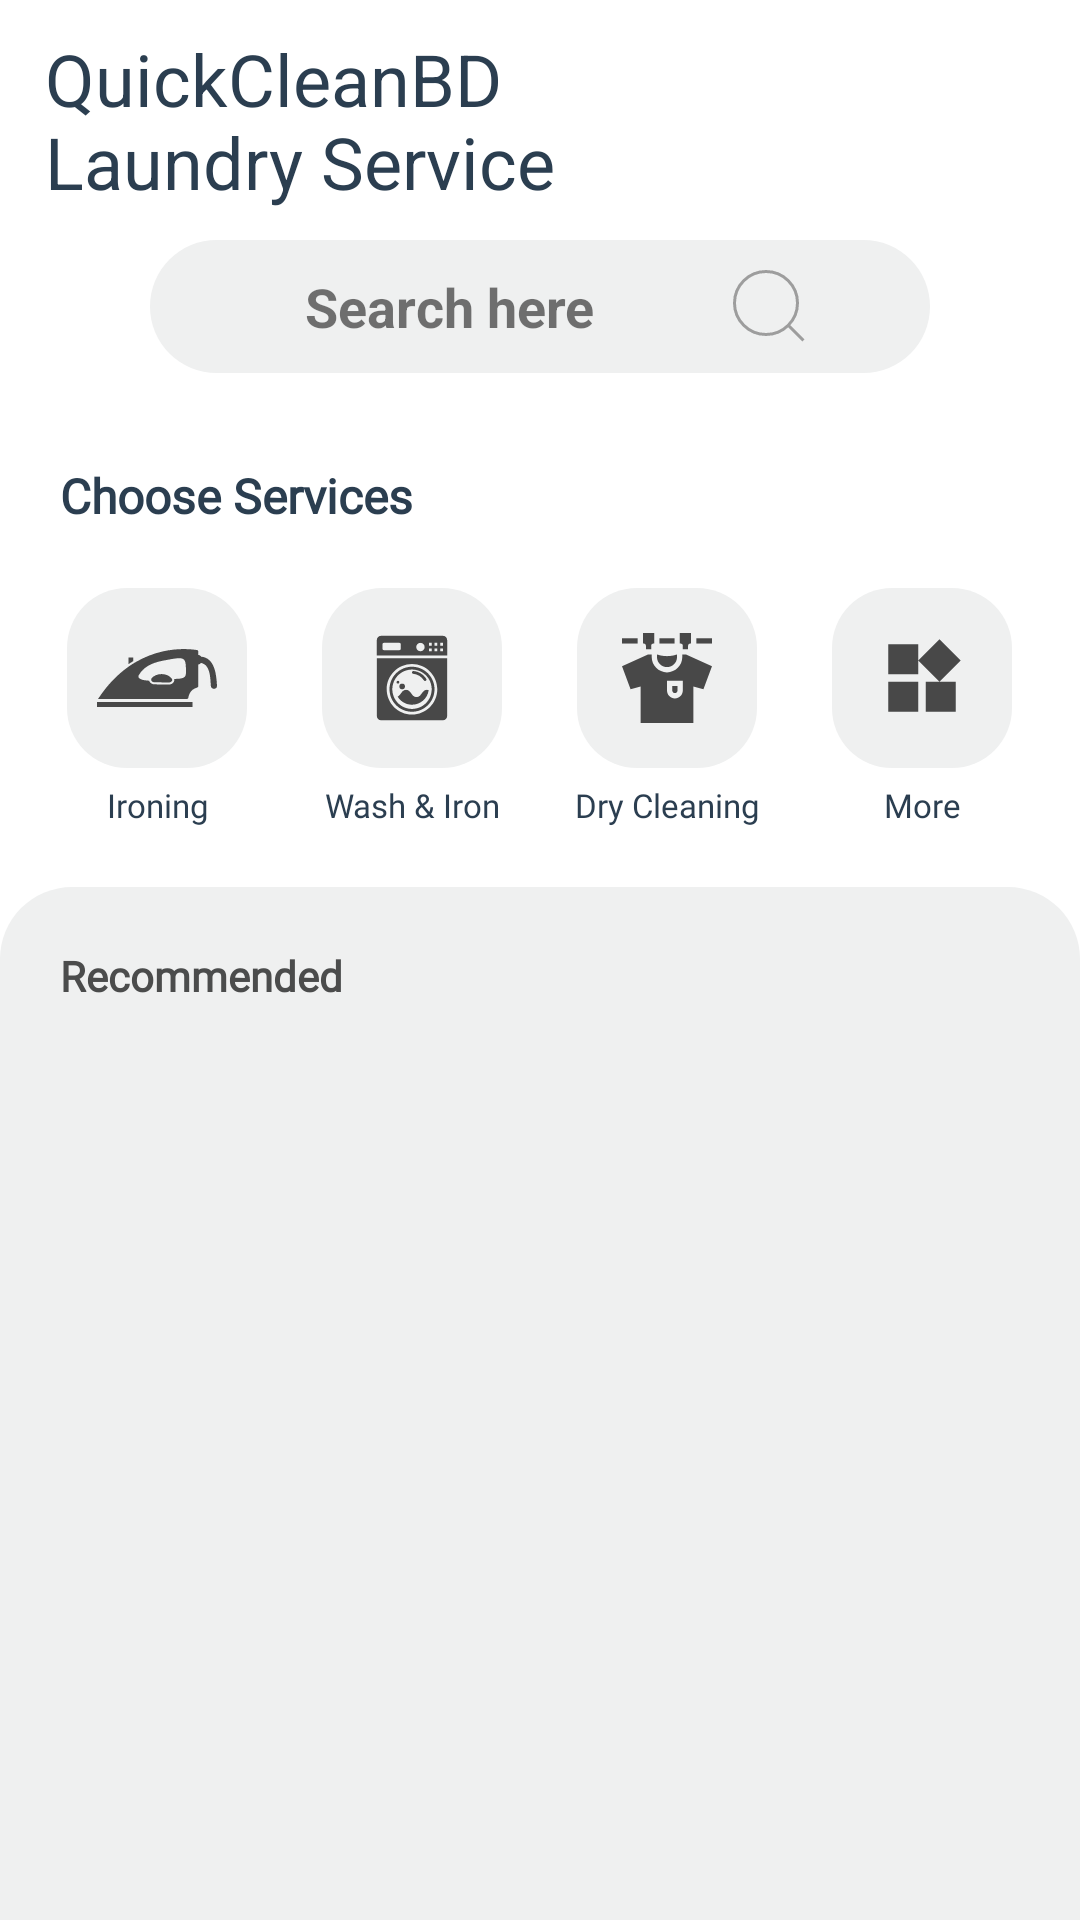

Where to tap for icons on this 1080px x 1920px app screen, as (x=x, y=y):
shirt: (x=667, y=678)
washing machine: (x=412, y=678)
